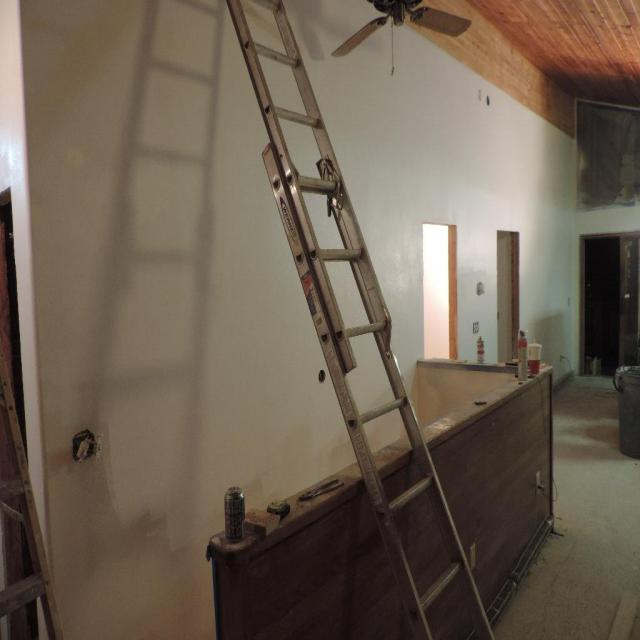Bulb: (324, 2, 451, 73)
